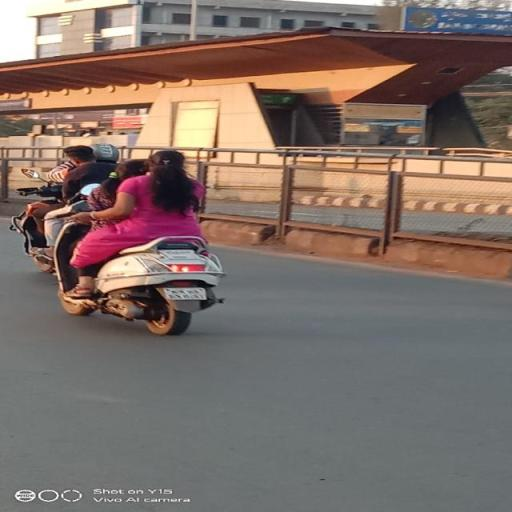bike: (47, 148, 227, 336)
withouthelmet: (151, 150, 182, 172), (116, 158, 145, 178)
